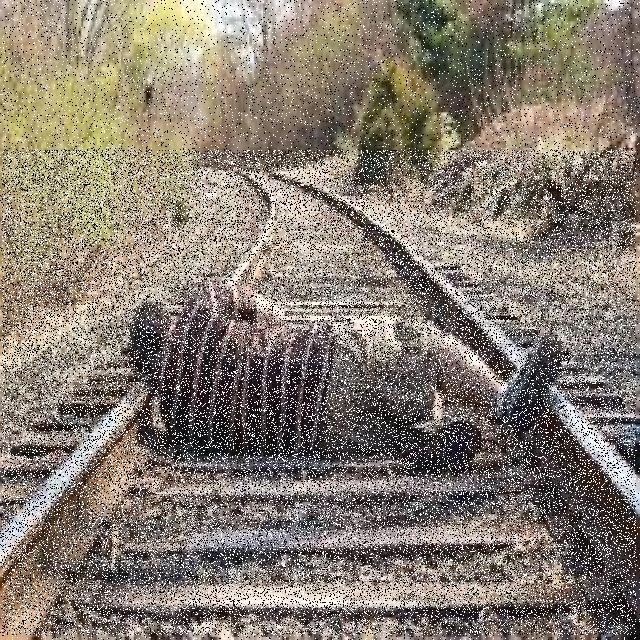danger: (128, 325, 558, 477)
rail: (2, 151, 636, 635)
